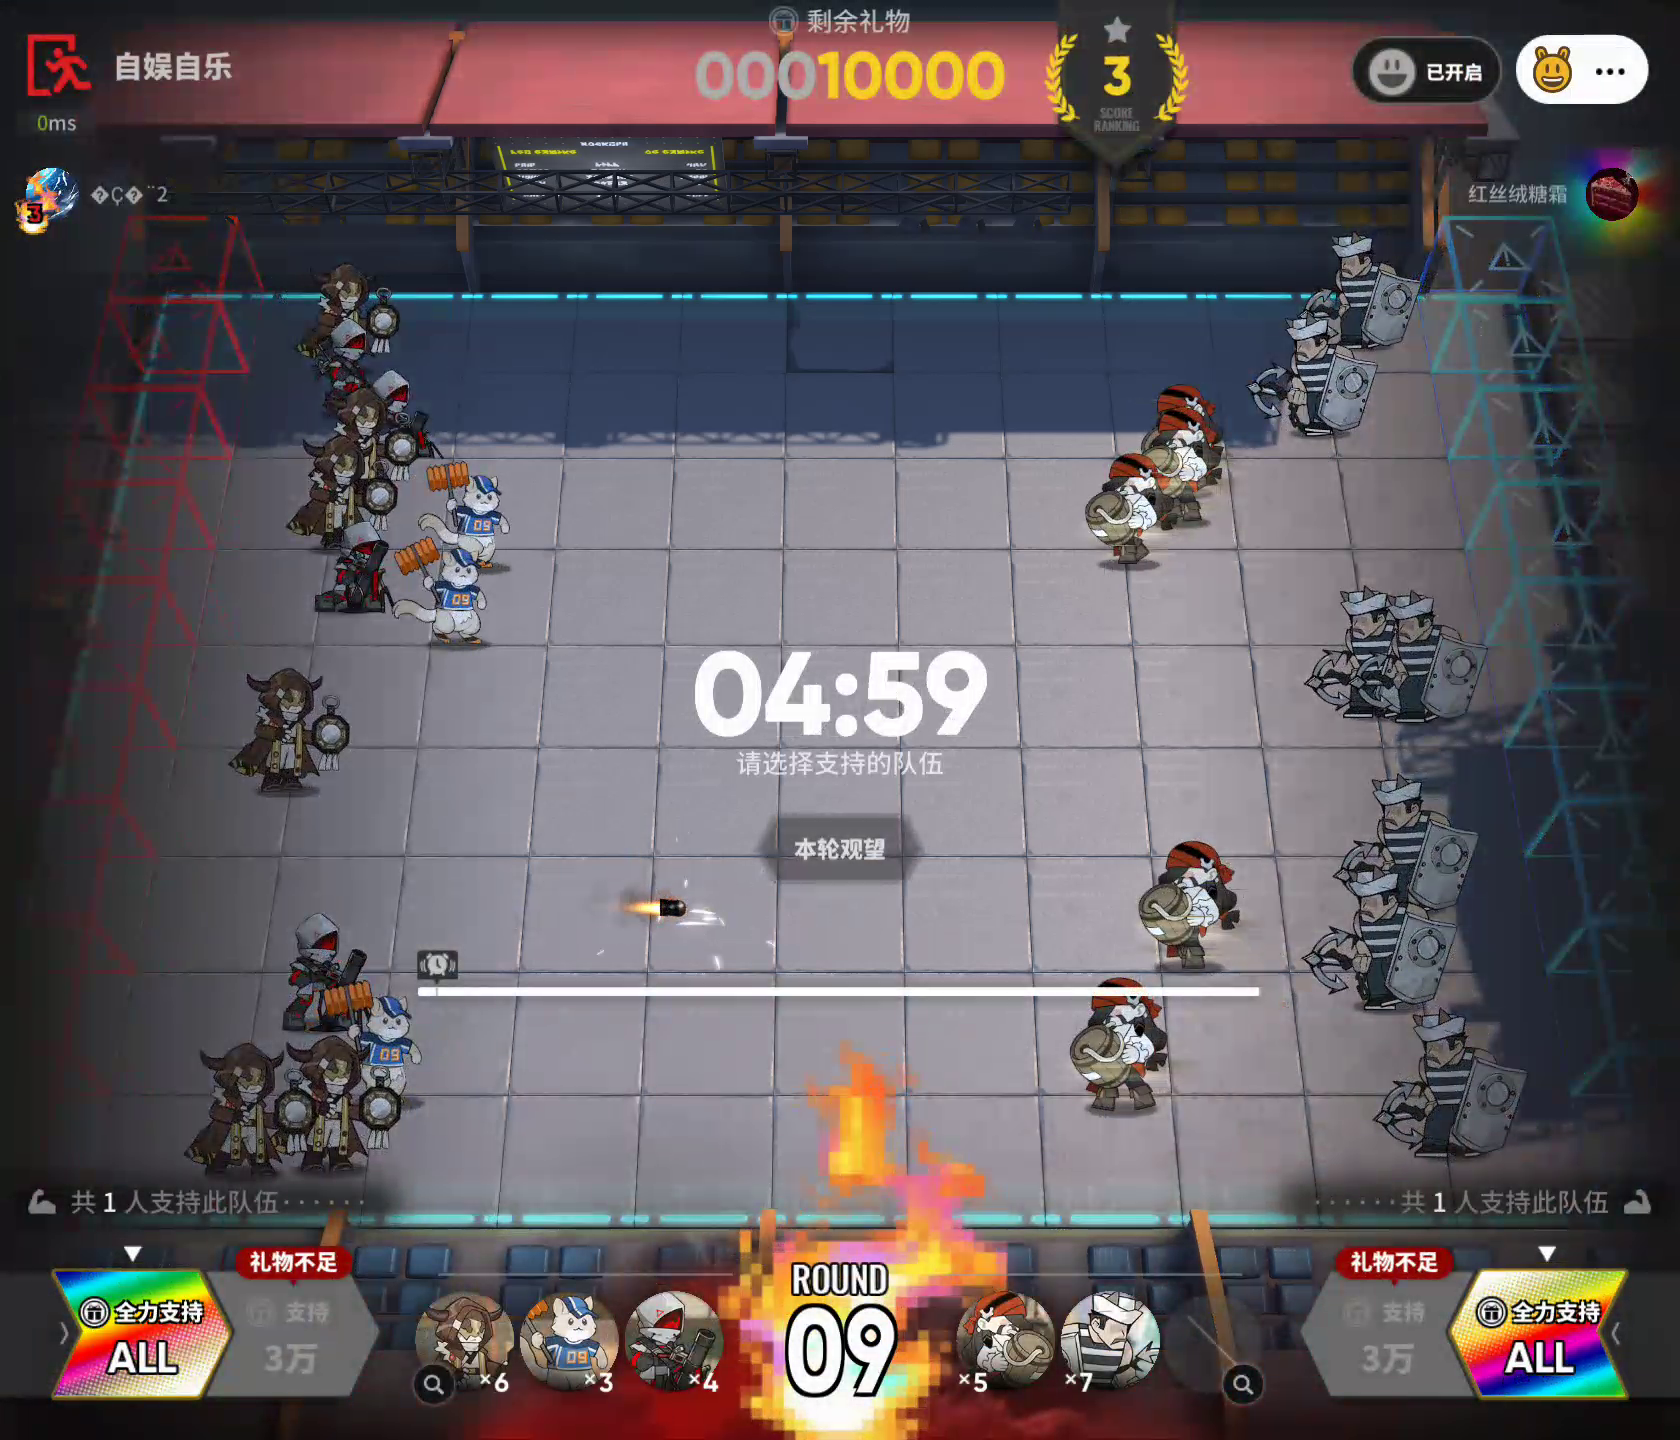假酒海盗: (1134, 826, 1249, 971), (1069, 967, 1171, 1110), (950, 1287, 1057, 1390), (1070, 449, 1159, 571), (1141, 406, 1227, 529), (1149, 379, 1226, 454)
大力锤球手: (319, 977, 421, 1109), (396, 529, 497, 647), (426, 453, 517, 569), (519, 1286, 619, 1389)
过气水手: (1367, 1009, 1527, 1170), (1297, 863, 1459, 1014), (1329, 771, 1477, 914), (1350, 579, 1489, 721), (1244, 309, 1379, 443), (1309, 580, 1406, 726), (1301, 229, 1419, 349), (1057, 1286, 1166, 1390)
迫击炮弹投手: (276, 906, 380, 1034), (624, 1289, 729, 1390), (360, 364, 446, 463), (313, 523, 399, 619), (319, 311, 386, 407)
镜子机关枪: (286, 1024, 403, 1179), (219, 666, 354, 797), (181, 1033, 294, 1174), (284, 431, 399, 559), (297, 261, 410, 381), (413, 1281, 517, 1387), (321, 381, 420, 477)
